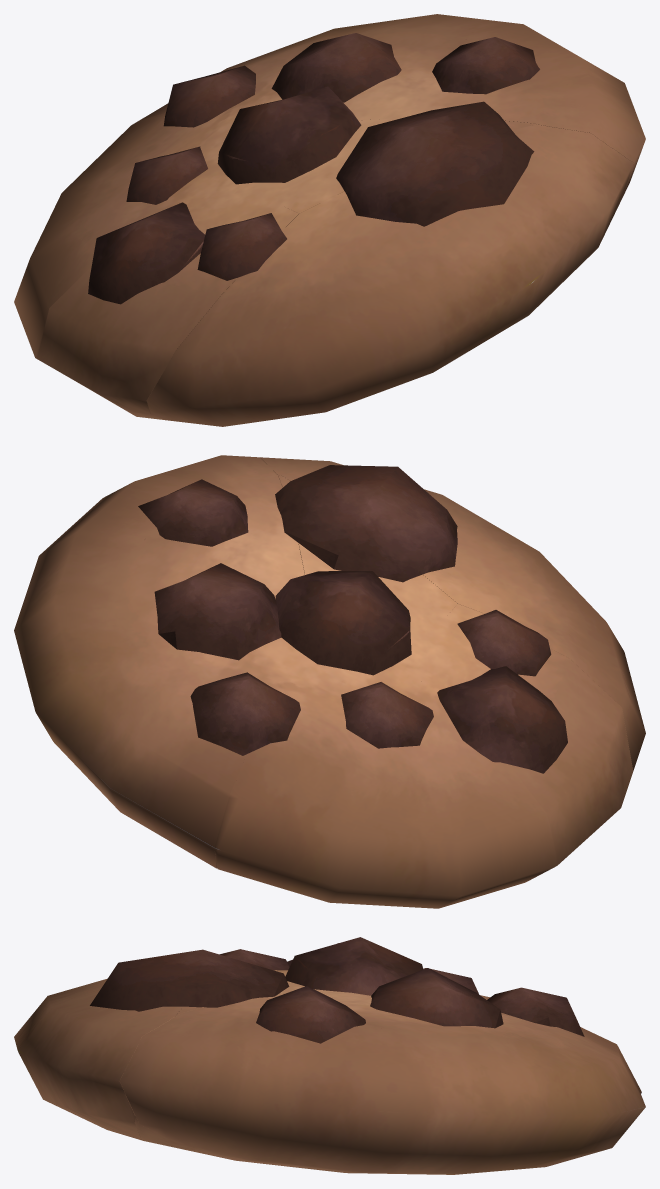
File: cookie6.fbx
The picture shows the model from 3 angles, top to bottom: view 1: azimuth 30°, elevation 25°; view 2: azimuth 150°, elevation 25°; view 3: azimuth 270°, elevation 25°; orthographic projection.
Visible parts, largest first — view 1: cookie6.001, cookie6.005, cookie6.002, cookie6.009, cookie6.004, cookie6.013, cookie6.010, cookie6.012, cookie6.011, cookie6.006, cookie6.003, cookie6.008 (+1 smaller); view 2: cookie6.005, cookie6.004, cookie6.001, cookie6.002, cookie6.009, cookie6.013, cookie6.010, cookie6.012, cookie6.008, cookie6.011, cookie6.007, cookie6.006 (+1 smaller); view 3: cookie6.005, cookie6.001, cookie6.009, cookie6.013, cookie6.012, cookie6.011, cookie6.008, cookie6.003, cookie6.006.
Part boxes in pixels (bbox=[...]): cookie6.001: bbox=[147, 125, 633, 426]; cookie6.005: bbox=[140, 14, 645, 199]; cookie6.002: bbox=[37, 184, 298, 413]; cookie6.009: bbox=[336, 101, 534, 226]; cookie6.004: bbox=[14, 112, 237, 358]; cookie6.013: bbox=[217, 86, 361, 184]; cookie6.010: bbox=[88, 202, 205, 304]; cookie6.012: bbox=[271, 33, 401, 102]; cookie6.011: bbox=[432, 37, 539, 94]; cookie6.006: bbox=[197, 213, 286, 280]; cookie6.003: bbox=[105, 118, 621, 419]; cookie6.008: bbox=[163, 65, 255, 127]; cookie6.005: bbox=[14, 455, 304, 868]; cookie6.004: bbox=[214, 651, 558, 908]; cookie6.001: bbox=[260, 457, 645, 770]; cookie6.002: bbox=[408, 604, 633, 863]; cookie6.009: bbox=[275, 465, 457, 582]; cookie6.013: bbox=[275, 571, 411, 675]; cookie6.010: bbox=[437, 666, 567, 773]; cookie6.012: bbox=[154, 563, 281, 660]; cookie6.008: bbox=[190, 672, 300, 755]; cookie6.011: bbox=[138, 479, 248, 546]; cookie6.007: bbox=[341, 682, 433, 748]; cookie6.006: bbox=[457, 610, 551, 676]; cookie6.005: bbox=[119, 990, 645, 1174]; cookie6.001: bbox=[14, 978, 182, 1140]; cookie6.009: bbox=[90, 949, 289, 1011]; cookie6.013: bbox=[285, 937, 423, 995]; cookie6.012: bbox=[370, 968, 503, 1028]; cookie6.011: bbox=[256, 986, 365, 1043]; cookie6.008: bbox=[487, 987, 584, 1036]; cookie6.003: bbox=[134, 973, 325, 1163]; cookie6.006: bbox=[219, 949, 289, 970].
Bounding box in the file's own units: 1.42 × 1.35 × 0.6858.
